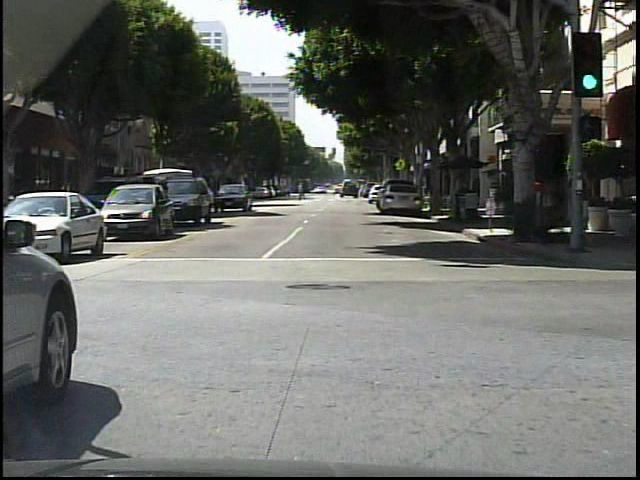person: (570, 159, 591, 244), (531, 171, 545, 230), (453, 172, 469, 220), (295, 181, 304, 200)
